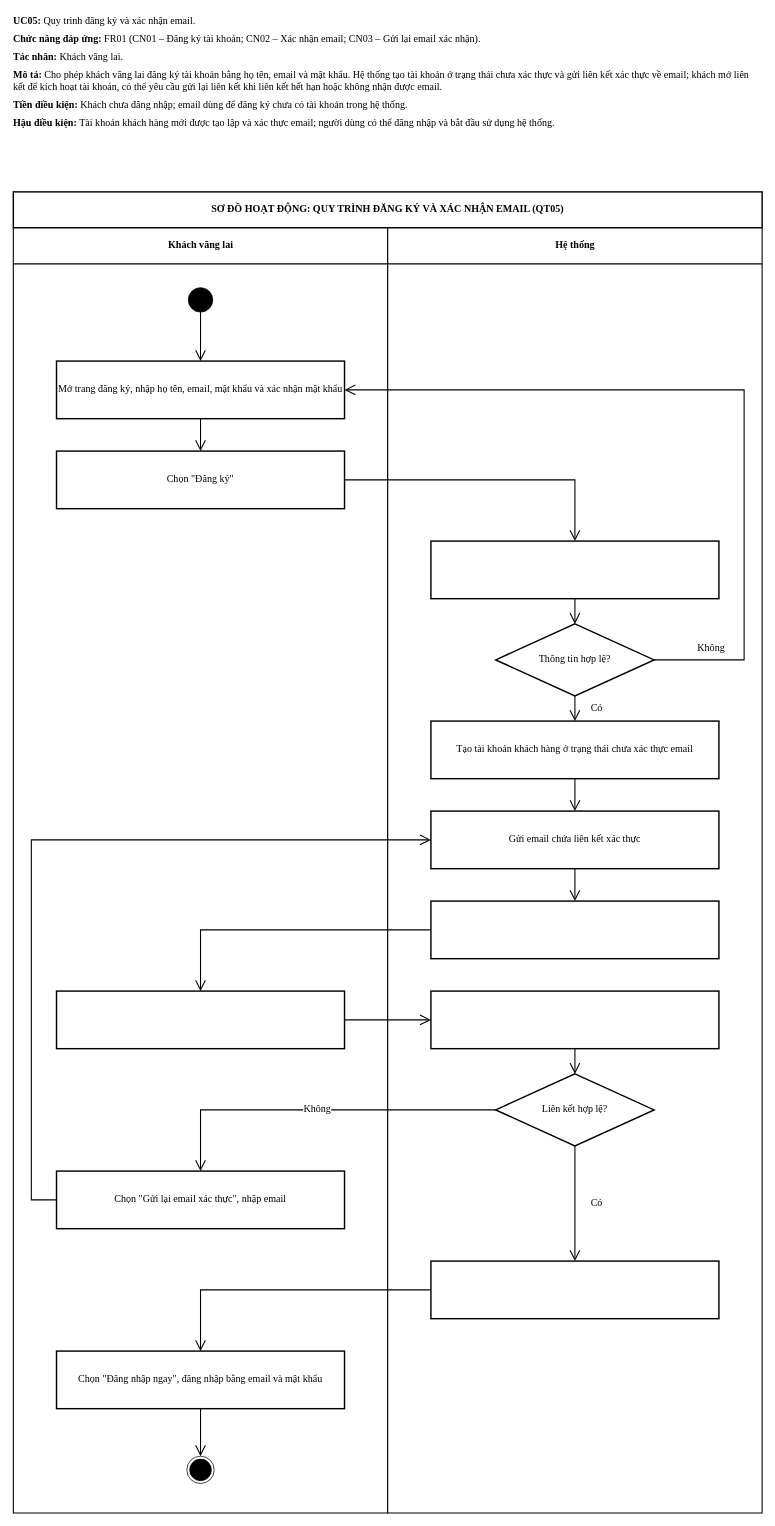
This 775x1526 diagram has some shape labels left out. The centre of each missing label's shape, as x and y in pixels:
"Hiển thị trang hướng dẫn kiểm tra hộp thư" goes at pixel 574 929.
"Kiểm tra liên kết xác thực" goes at pixel 574 1019.
"Kiểm tra thông tin và email chưa được đăng ký" goes at pixel 574 569.
"Kích hoạt tài khoản, báo xác thực thành công" goes at pixel 574 1289.
"Mở email, chọn liên kết xác thực" goes at pixel 200 1019.
